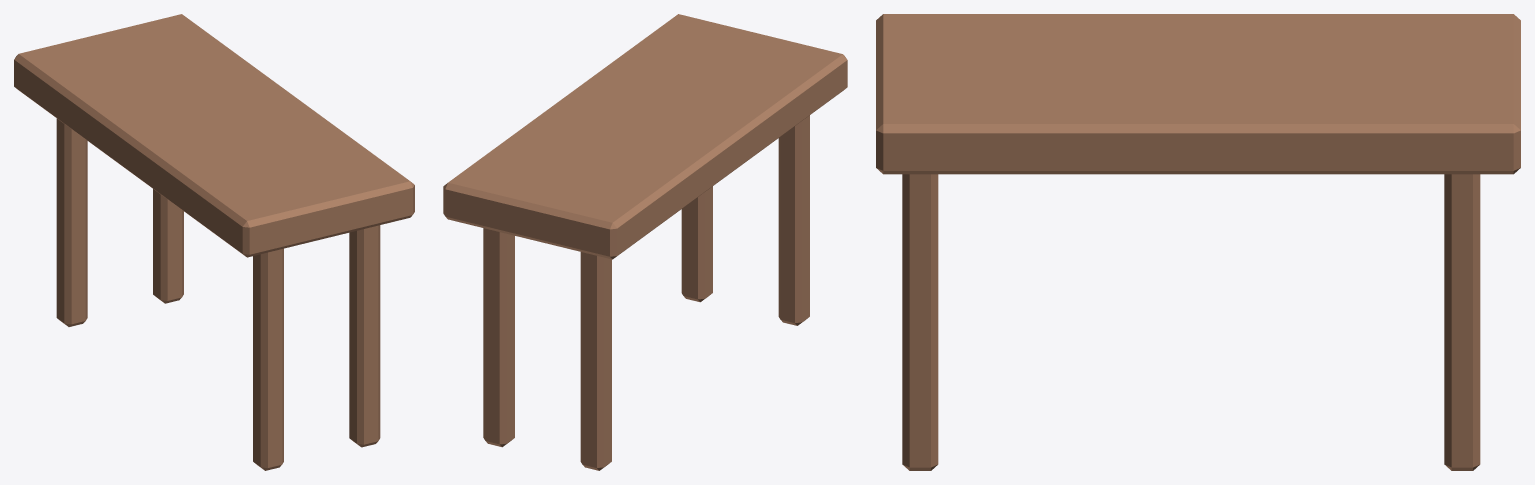
The model's file is short table.fbx.
3 renders of one model, left to right at view 1: azimuth 30°, elevation 25°; view 2: azimuth 150°, elevation 25°; view 3: azimuth 270°, elevation 25°, orthographic. The views are drawn at different scales.
Parts seen in each view (by area): view 1: Short_table; view 2: Short_table; view 3: Short_table.
Boxes of the visible parts, box(x1,y1,x2,y2) form: Short_table: box(14, 14, 414, 470); Short_table: box(443, 14, 847, 470); Short_table: box(876, 14, 1520, 470).
Bounding box in the file's own units: 101 × 148 × 238.
